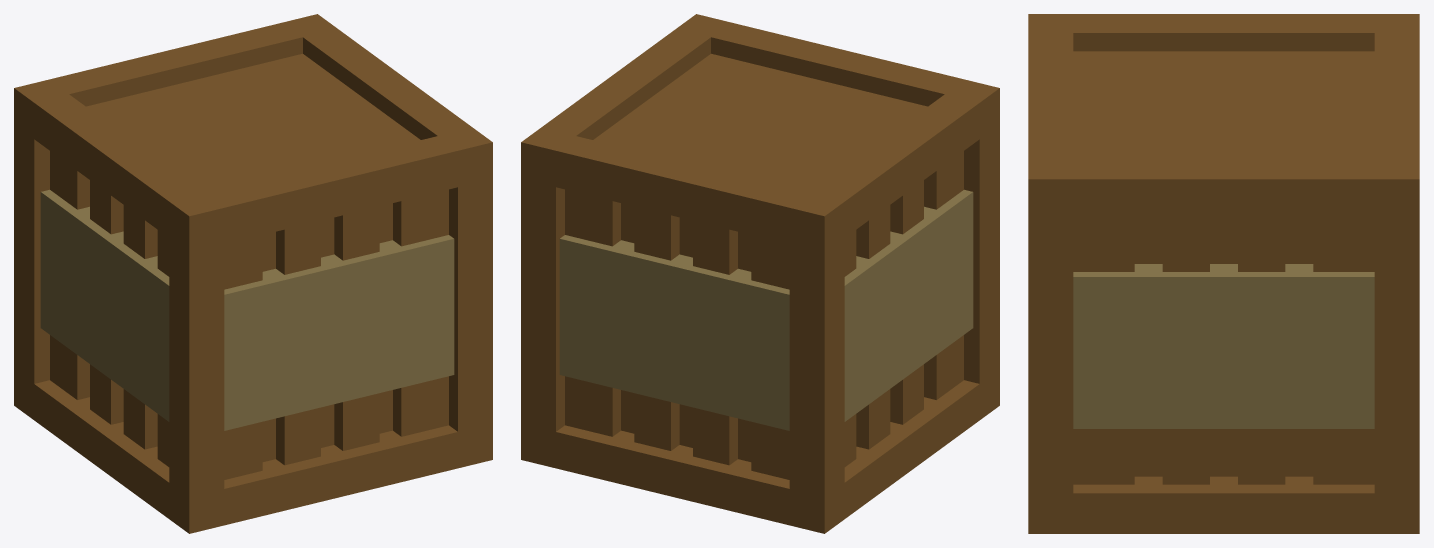
Rendered from SM_CollectableBox.fbx.
3 renders of one model, left to right at view 1: azimuth 30°, elevation 25°; view 2: azimuth 150°, elevation 25°; view 3: azimuth 270°, elevation 25°, orthographic. The views are drawn at different scales.
Visible parts, largest first — view 1: SM_CollectableBox; view 2: SM_CollectableBox; view 3: SM_CollectableBox.
Part boxes in pixels (x1,y1,x2,y2): SM_CollectableBox: (14,14,492,533); SM_CollectableBox: (521,14,999,533); SM_CollectableBox: (1028,14,1419,533).
Bounding box in the file's own units: 150 × 150 × 150.
